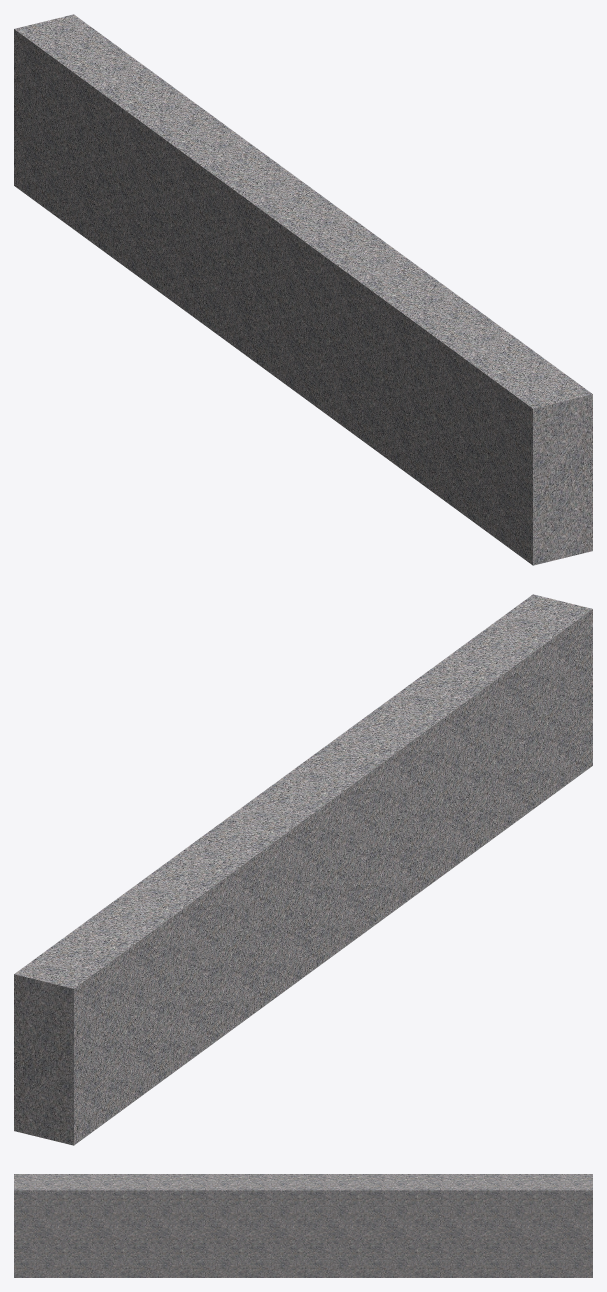
The picture shows the model from 3 angles, top to bottom: view 1: azimuth 30°, elevation 25°; view 2: azimuth 150°, elevation 25°; view 3: azimuth 270°, elevation 25°; orthographic projection. The views are drawn at different scales.
Visible parts, largest first — view 1: 0_3_1_2_1_2_0_2_1_1_3; view 2: 0_3_1_2_1_2_0_2_1_1_3; view 3: 0_3_1_2_1_2_0_2_1_1_3.
Part boxes in pixels (box(x1,y1,x2,y2)): 0_3_1_2_1_2_0_2_1_1_3: box(14, 14, 592, 565); 0_3_1_2_1_2_0_2_1_1_3: box(14, 594, 592, 1145); 0_3_1_2_1_2_0_2_1_1_3: box(14, 1174, 592, 1277).
Size of the model in its own units: 0.2 by 0.5 by 3.
Materials: 1 (1 with a texture image).
